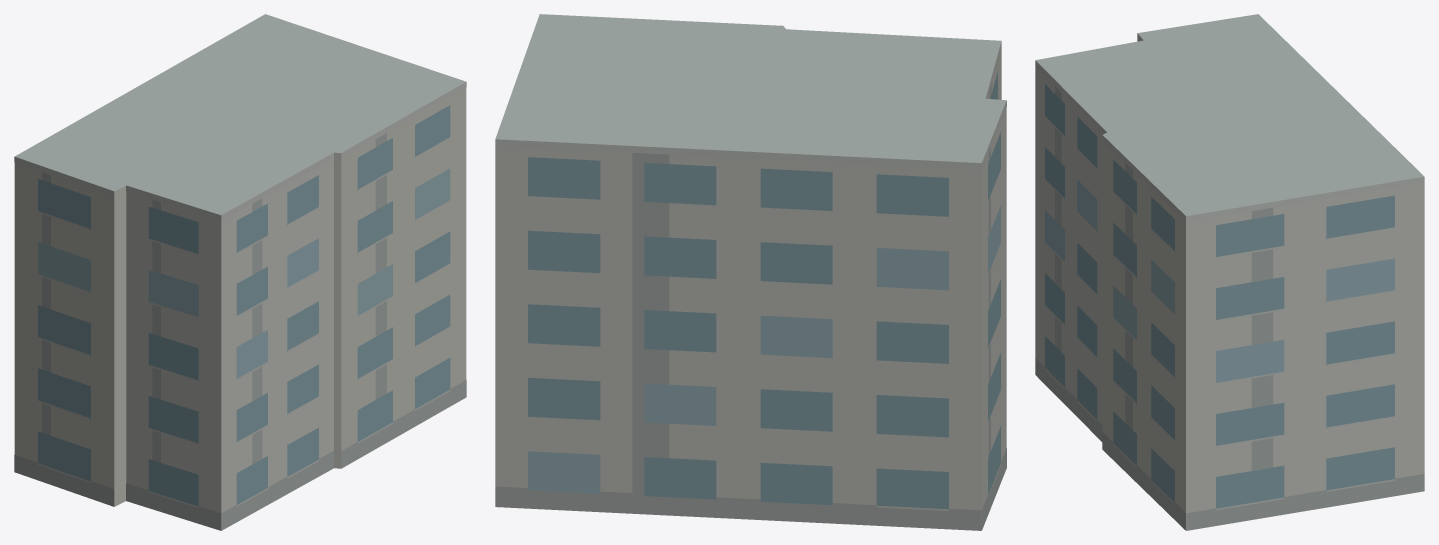
File: survey-upis-32860456.glb
3 views of the same model, side by side, from view 1: azimuth 30°, elevation 25°; view 2: azimuth 150°, elevation 25°; view 3: azimuth 270°, elevation 25° (orthographic). The views are drawn at different scales.
Visible parts, largest first — view 1: survey-upis-32860456.tmp; view 2: survey-upis-32860456.tmp; view 3: survey-upis-32860456.tmp.
Boxes of the visible parts, x1,y1,x2,y2 form: survey-upis-32860456.tmp: [14, 14, 466, 530]; survey-upis-32860456.tmp: [495, 14, 1006, 530]; survey-upis-32860456.tmp: [1035, 14, 1424, 530].
Size of the model in its own units: 18.07 by 13.1 by 14.7.
